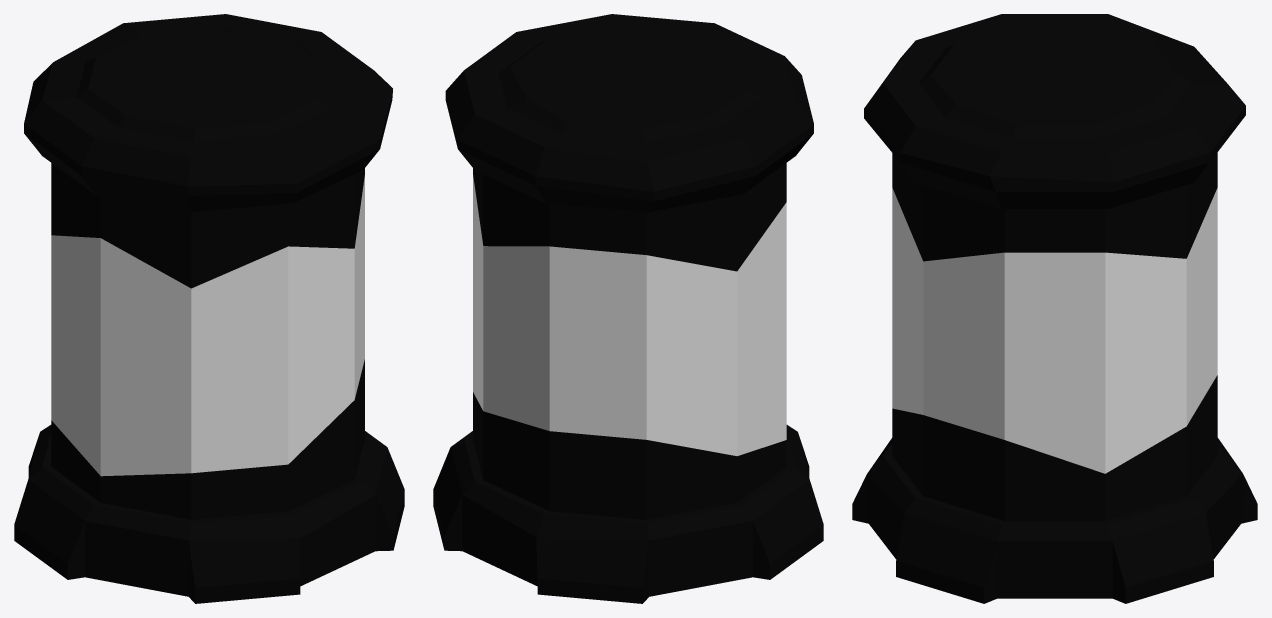
The model's file is space_SM_Prop_Test_Tube_02.gltf.
The picture shows the model from 3 angles, left to right: view 1: azimuth 30°, elevation 25°; view 2: azimuth 150°, elevation 25°; view 3: azimuth 270°, elevation 25°; orthographic projection.
Parts seen in each view (by area): view 1: SM_Prop_Test_Tube_Glass_02, SM_Prop_Test_Tube_02; view 2: SM_Prop_Test_Tube_Glass_02, SM_Prop_Test_Tube_02; view 3: SM_Prop_Test_Tube_Glass_02, SM_Prop_Test_Tube_02.
Boxes of the visible parts, x1=… form: SM_Prop_Test_Tube_Glass_02: x1=51, y1=163, x2=364, y2=519; SM_Prop_Test_Tube_02: x1=14, y1=14, x2=404, y2=603; SM_Prop_Test_Tube_Glass_02: x1=473, y1=163, x2=786, y2=519; SM_Prop_Test_Tube_02: x1=433, y1=14, x2=823, y2=603; SM_Prop_Test_Tube_Glass_02: x1=892, y1=152, x2=1217, y2=521; SM_Prop_Test_Tube_02: x1=852, y1=14, x2=1257, y2=603.
Bounding box in the file's own units: 0.5075 × 0.6518 × 0.5336.
1 material, 1 textured.
